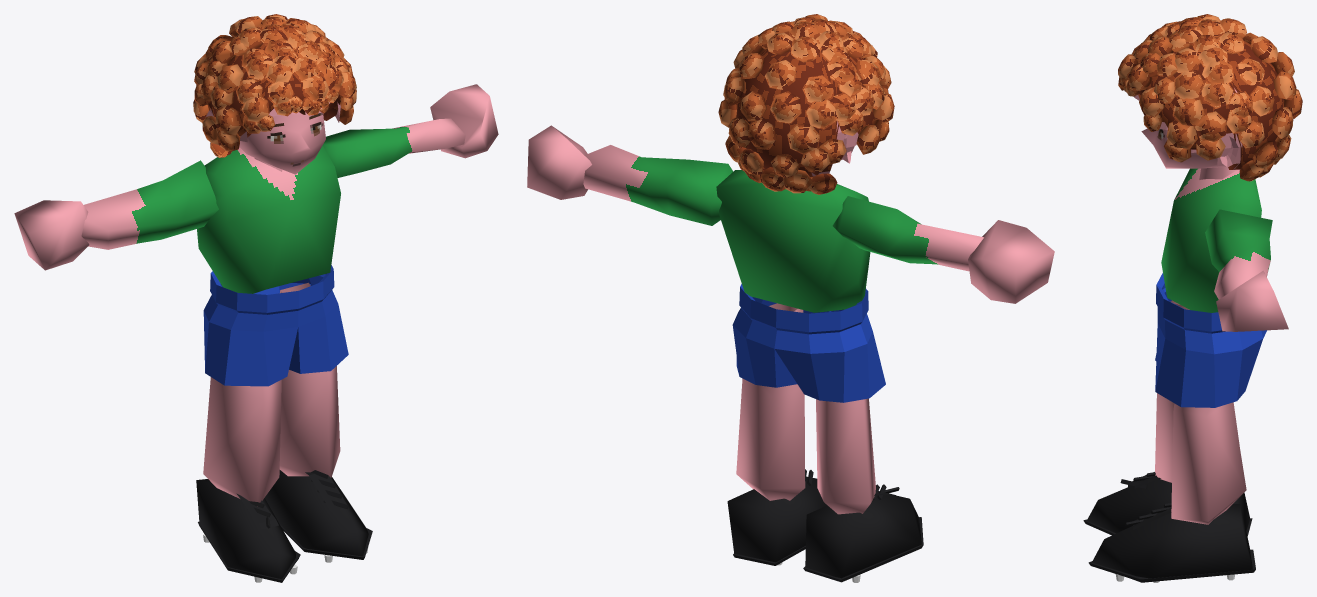
File: 04-cacheado-curto_ruivo.glb
3 views of the same model, side by side, from view 1: azimuth 30°, elevation 25°; view 2: azimuth 150°, elevation 25°; view 3: azimuth 270°, elevation 25° (orthographic). The views are drawn at different scales.
Visible parts, largest first — view 1: Camisa_Tronco, Cabelo, Bermuda, Perna.R, Braco.R, Perna.L, Chuteira.R, Chuteira.L, Braco.L, Mao.R, Cabeca, Mao.L (+1 smaller); view 2: Cabelo, Camisa_Tronco, Bermuda, Perna.L, Braco.L, Chuteira.R, Perna.R, Braco.R, Mao.R, Chuteira.L, Mao.L, Chuteira_Sola.R; view 3: Cabelo, Bermuda, Chuteira.L, Camisa_Tronco, Perna.L, Braco.L, Mao.L, Chuteira.R, Perna.R, Cabeca, Chuteira_Sola.L, Couro_Cabeludo (+3 smaller).
Part boxes in pixels (x1=…): Camisa_Tronco: x1=197, y1=145, x2=340, y2=293; Cabelo: x1=193, y1=14, x2=356, y2=157; Bermuda: x1=203, y1=265, x2=348, y2=386; Perna.R: x1=203, y1=377, x2=281, y2=506; Braco.R: x1=81, y1=160, x2=218, y2=249; Perna.L: x1=279, y1=282, x2=340, y2=477; Chuteira.R: x1=196, y1=479, x2=298, y2=579; Chuteira.L: x1=264, y1=470, x2=368, y2=556; Braco.L: x1=322, y1=118, x2=465, y2=177; Mao.R: x1=14, y1=200, x2=89, y2=270; Cabeca: x1=239, y1=111, x2=325, y2=174; Mao.L: x1=430, y1=84, x2=498, y2=158; Cabelo: x1=718, y1=14, x2=894, y2=194; Camisa_Tronco: x1=716, y1=170, x2=870, y2=312; Bermuda: x1=732, y1=284, x2=885, y2=402; Perna.L: x1=736, y1=303, x2=805, y2=500; Braco.L: x1=583, y1=145, x2=733, y2=225; Chuteira.R: x1=805, y1=491, x2=921, y2=578; Perna.R: x1=816, y1=398, x2=875, y2=514; Braco.R: x1=832, y1=196, x2=983, y2=271; Mao.R: x1=968, y1=220, x2=1054, y2=303; Chuteira.L: x1=727, y1=476, x2=826, y2=562; Mao.L: x1=527, y1=125, x2=591, y2=199; Chuteira_Sola.R: x1=803, y1=517, x2=923, y2=582; Cabelo: x1=1118, y1=14, x2=1302, y2=181; Bermuda: x1=1155, y1=273, x2=1266, y2=407; Chuteira.L: x1=1092, y1=504, x2=1252, y2=582; Camisa_Tronco: x1=1161, y1=168, x2=1261, y2=312; Perna.L: x1=1171, y1=402, x2=1246, y2=524; Braco.L: x1=1205, y1=209, x2=1272, y2=299; Mao.L: x1=1216, y1=270, x2=1288, y2=331; Chuteira.R: x1=1087, y1=475, x2=1249, y2=533; Perna.R: x1=1155, y1=300, x2=1239, y2=482; Cabeca: x1=1141, y1=128, x2=1228, y2=168; Chuteira_Sola.L: x1=1088, y1=549, x2=1255, y2=582; Couro_Cabeludo: x1=1133, y1=88, x2=1242, y2=169.
Bounding box in the file's own units: 0.4523 × 0.4644 × 0.1726.
3 materials, 3 textured.
